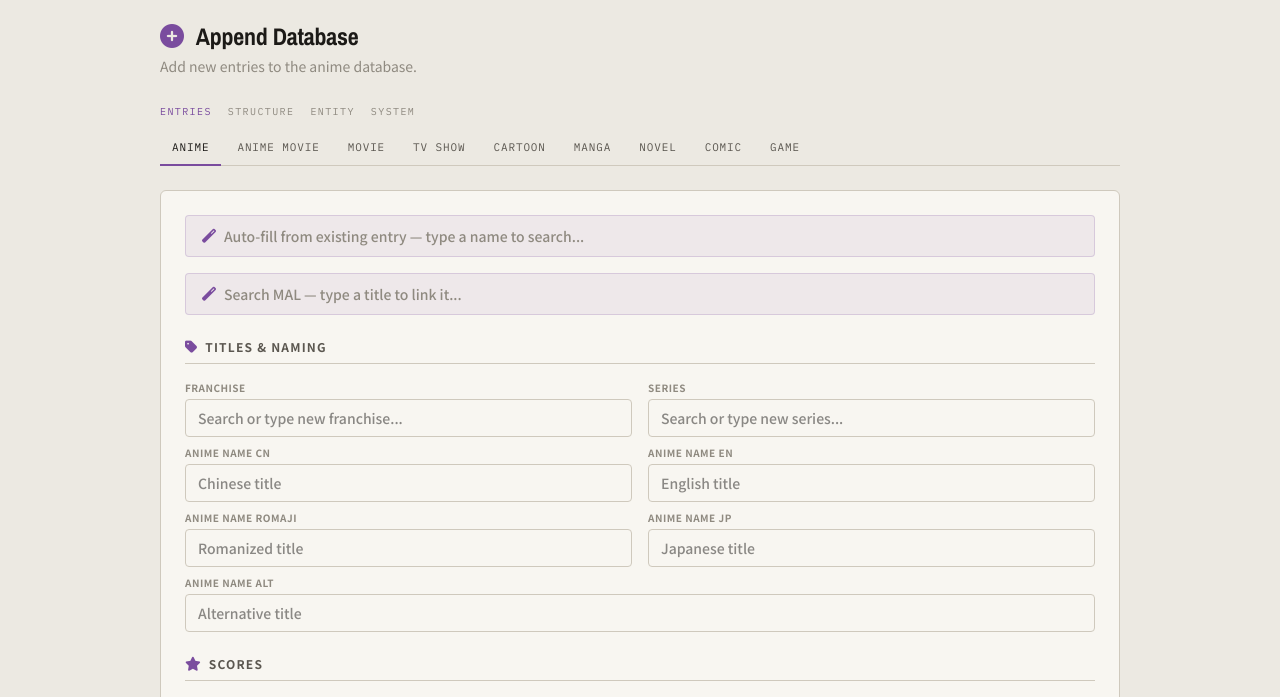
Test: Add page — notes for the created entry › shows the new entry's notes only once it is saved
In the field with placeholder "English title": {"x": 872, "y": 482} [648,464,1095,502], type "Test Anime"
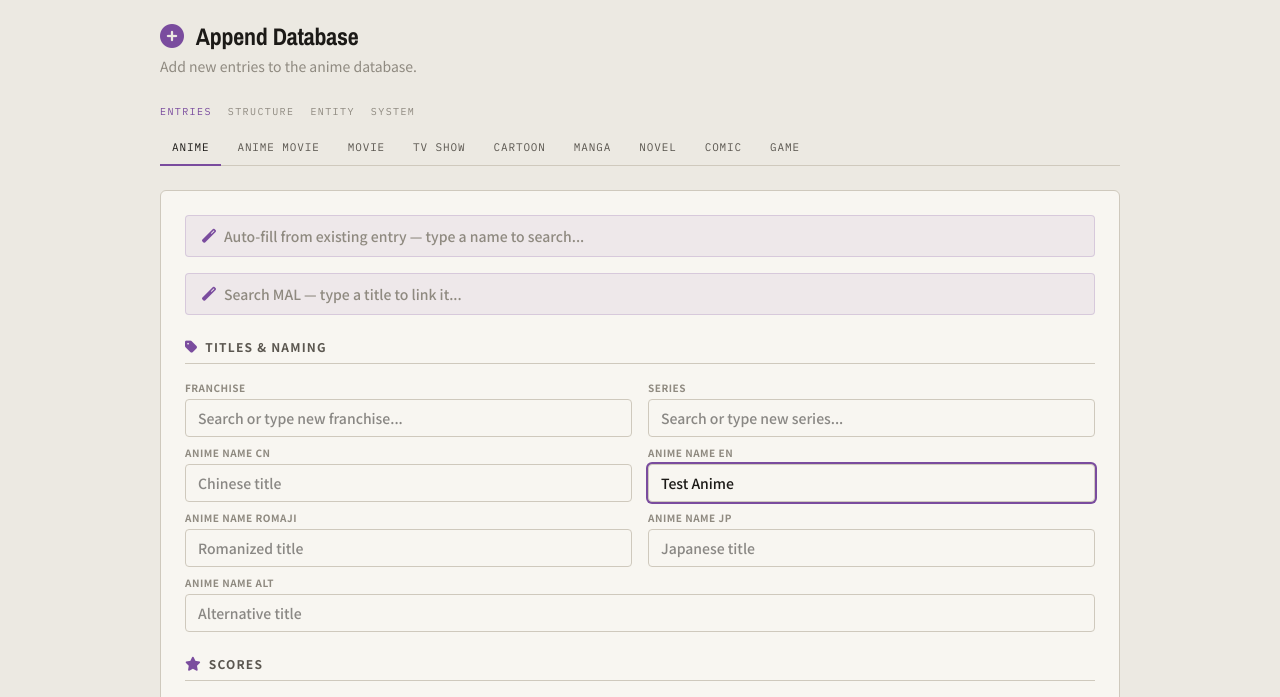
Click the dropdown with placeholder "Search or type new franchise...": {"x": 408, "y": 418} [185,398,632,436]
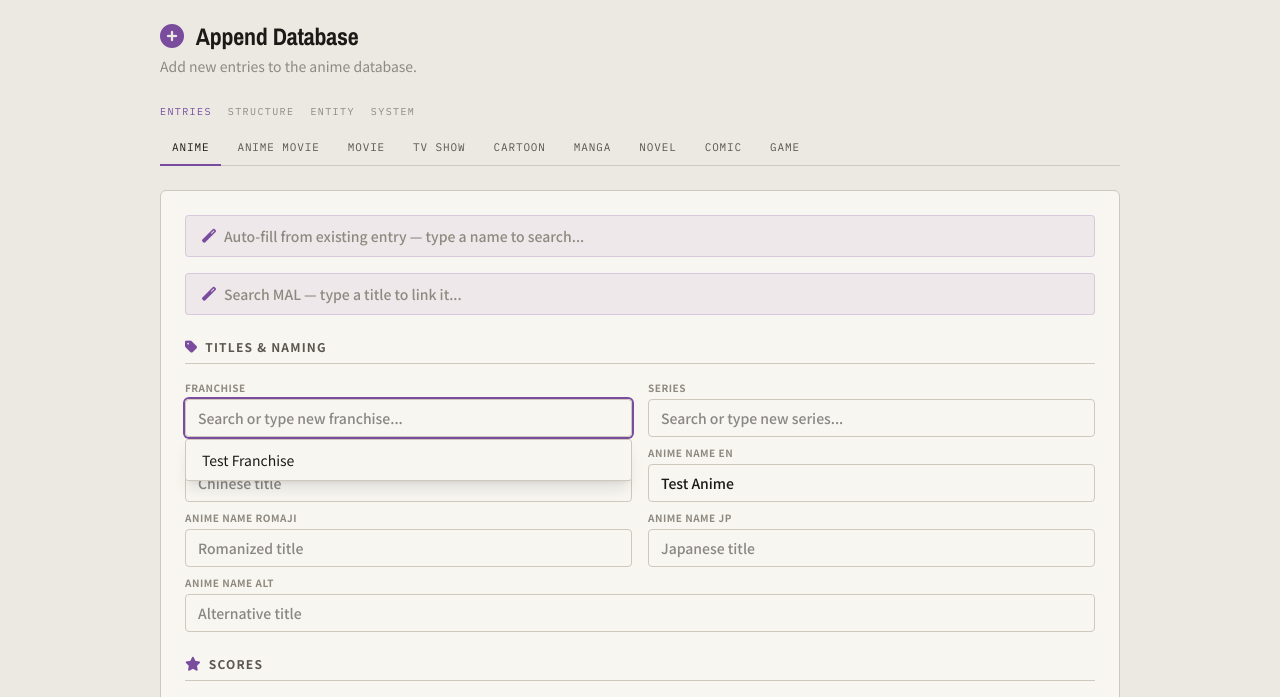
Click the option "Test Franchise": {"x": 248, "y": 460} [202,450,294,470]
(page scrolled)
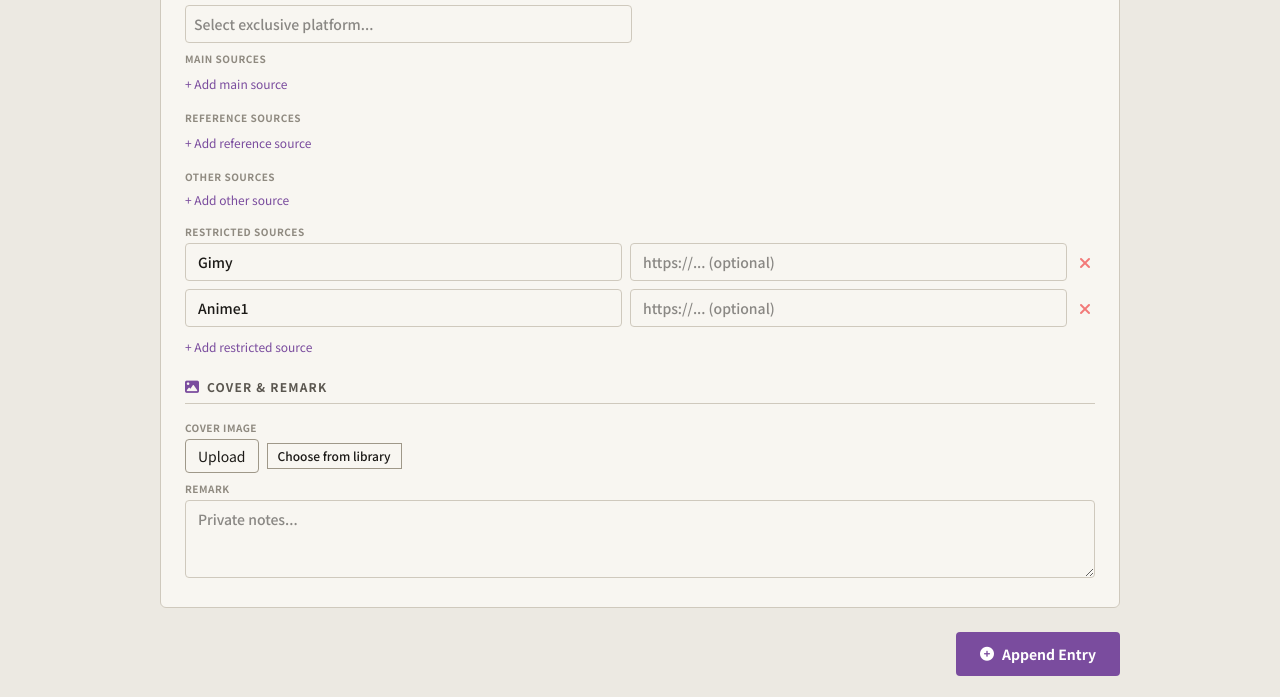
Expected: the text "Notes for" is not shown
Click the button "Append Entry": {"x": 1038, "y": 654} [956,632,1120,676]
(page scrolled)
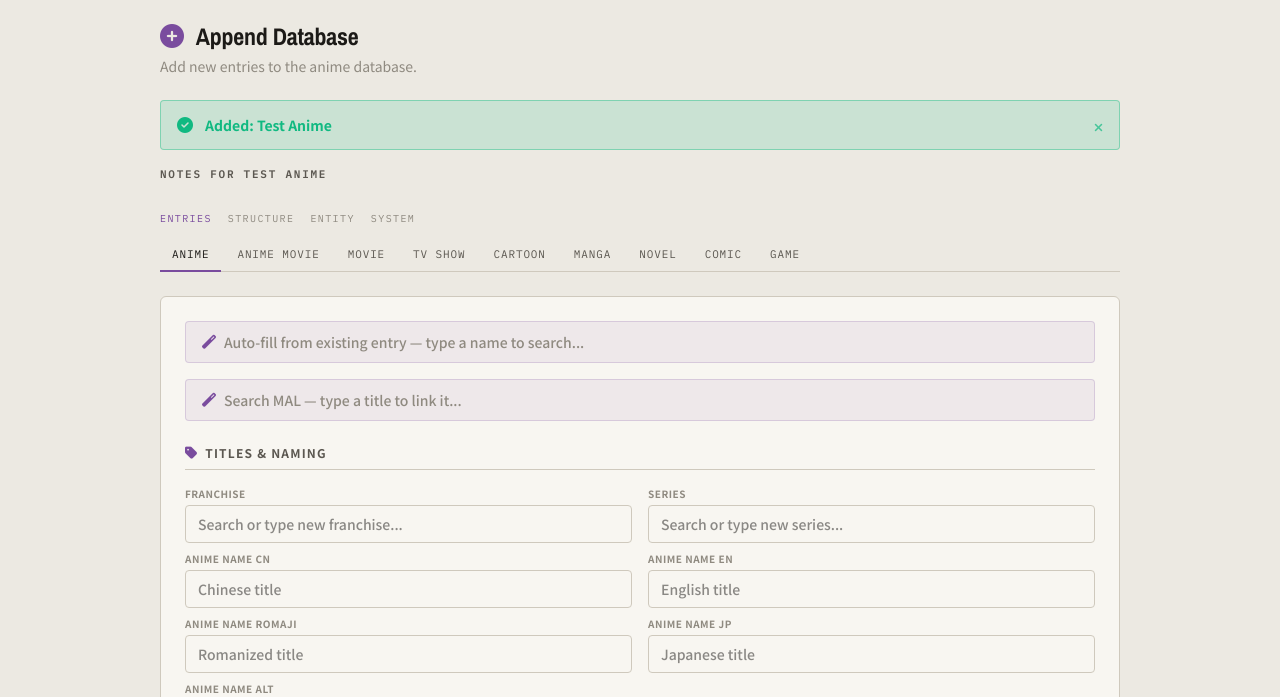
Expected: the element "Notes for Test Anime" is shown, [160,167,327,181]
